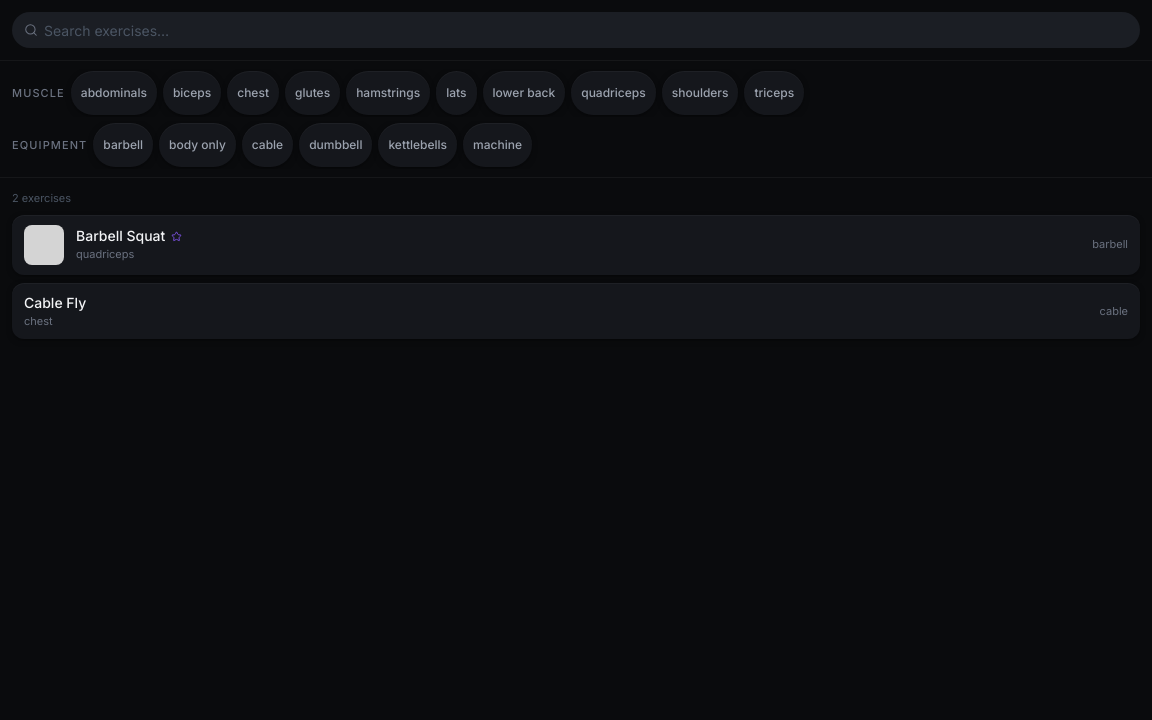
Test: ExerciseLibrary › P29: add custom exercise › shows the create error inline and keeps the sheet open on failure
The image size is (1152, 720).
Expected: the button with test id "exercise-row-barbell-squat" is shown, left=12, top=214, right=1140, bottom=274
Type "nonexistent-exercise-zzz" into the search field labelled "Search exercises". click: (576, 30)
box: left=12, top=12, right=1140, bottom=48
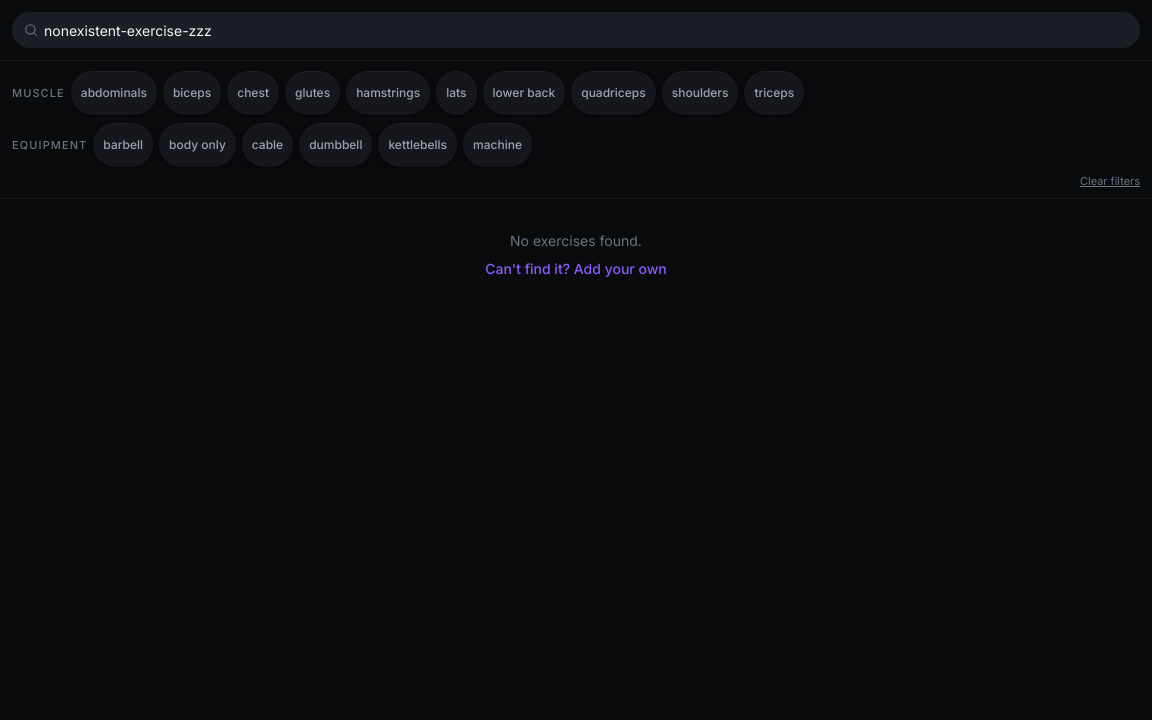
Expected: the button with test id "add-custom-exercise" is shown
Click the button with test id "add-custom-exercise". click: (576, 268)
box: left=485, top=258, right=667, bottom=278
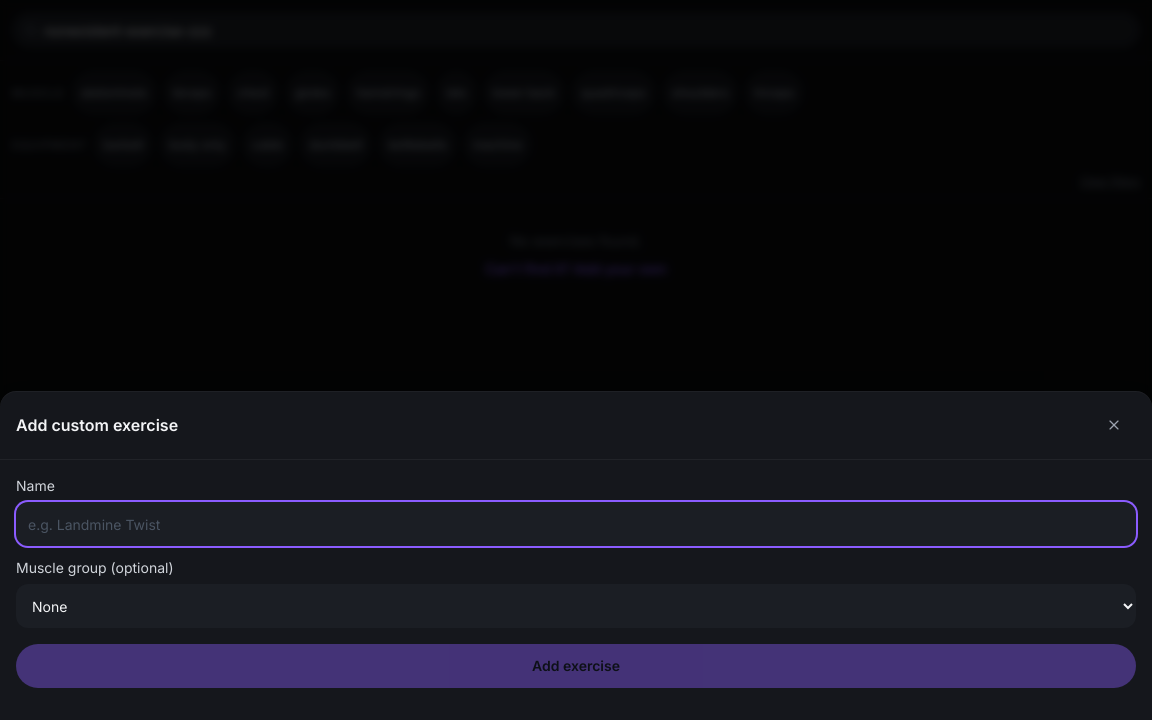
Type "Landmine Twist" into the field with placeholder "e.g. Landmine Twist". click: (576, 524)
box: left=16, top=502, right=1136, bottom=546
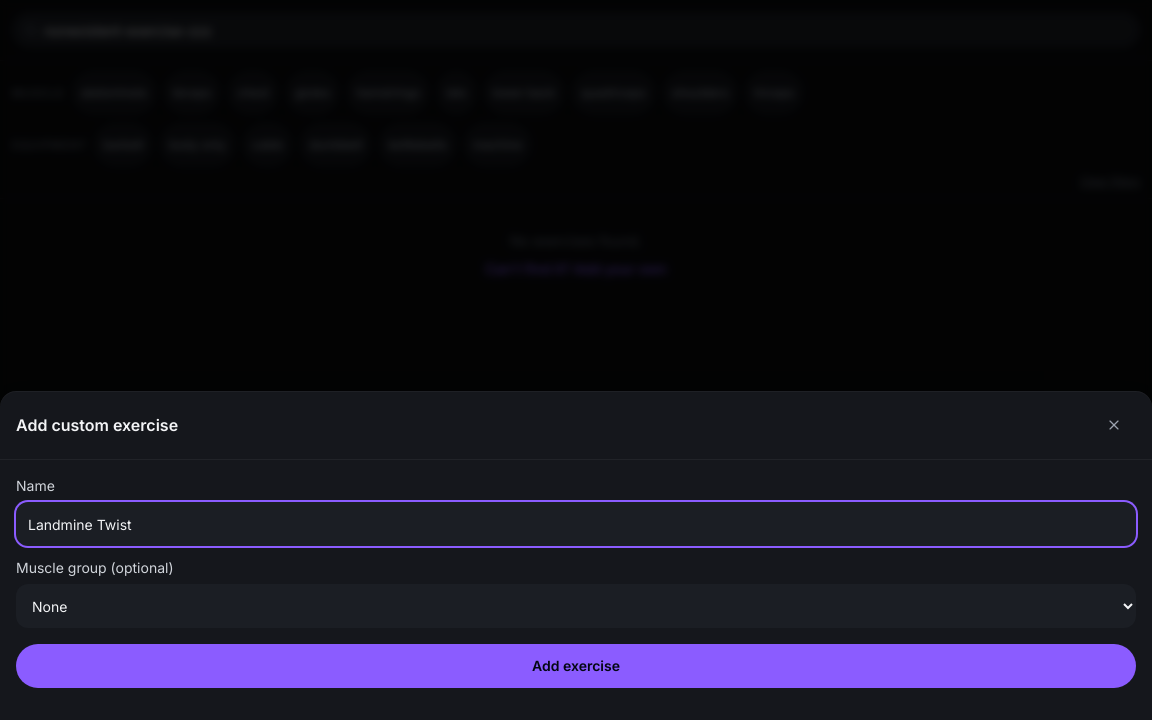
Click the button with test id "custom-exercise-submit". click: (576, 666)
box: left=16, top=644, right=1136, bottom=688
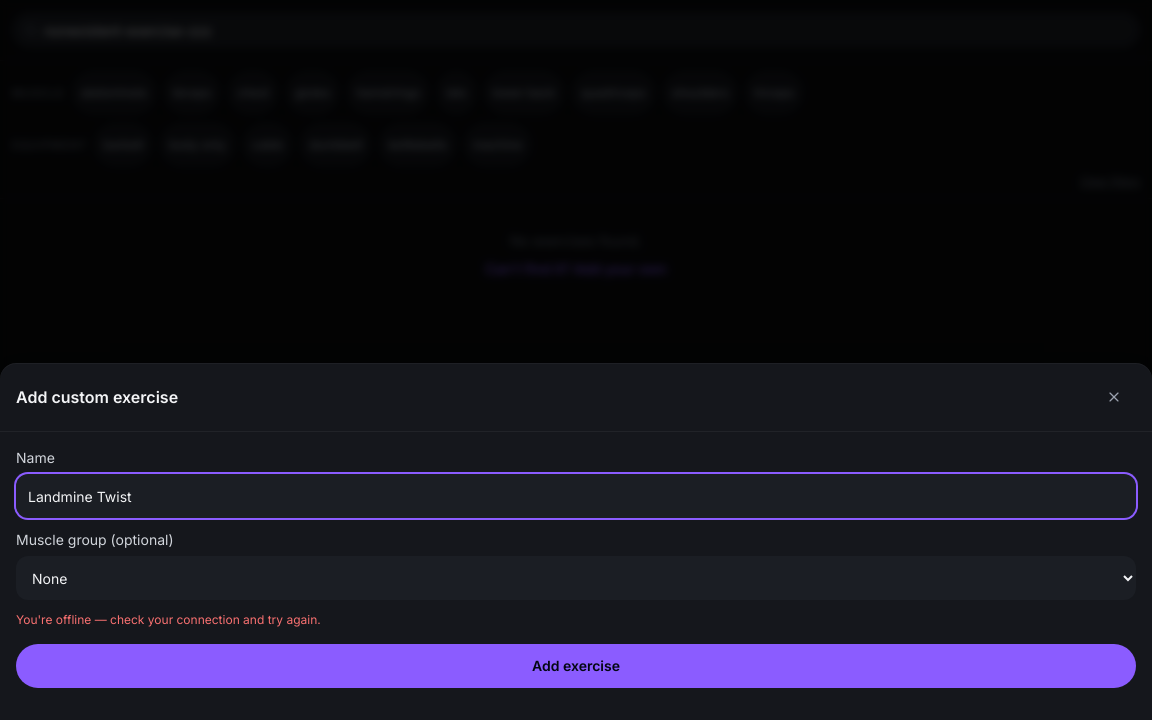
Expected: the dialog with test id "custom-exercise-sheet" is shown
Expected: the message reads "You're offline — check your connection and try again.", left=16, top=612, right=321, bottom=627
